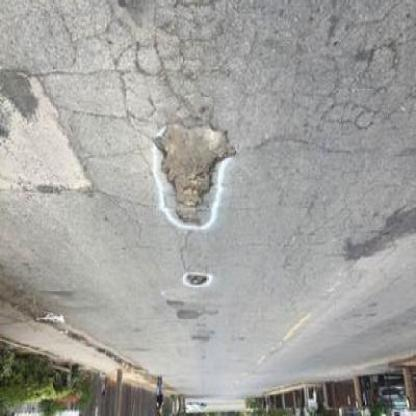pothole: (154, 123, 234, 228), (185, 274, 209, 291)
